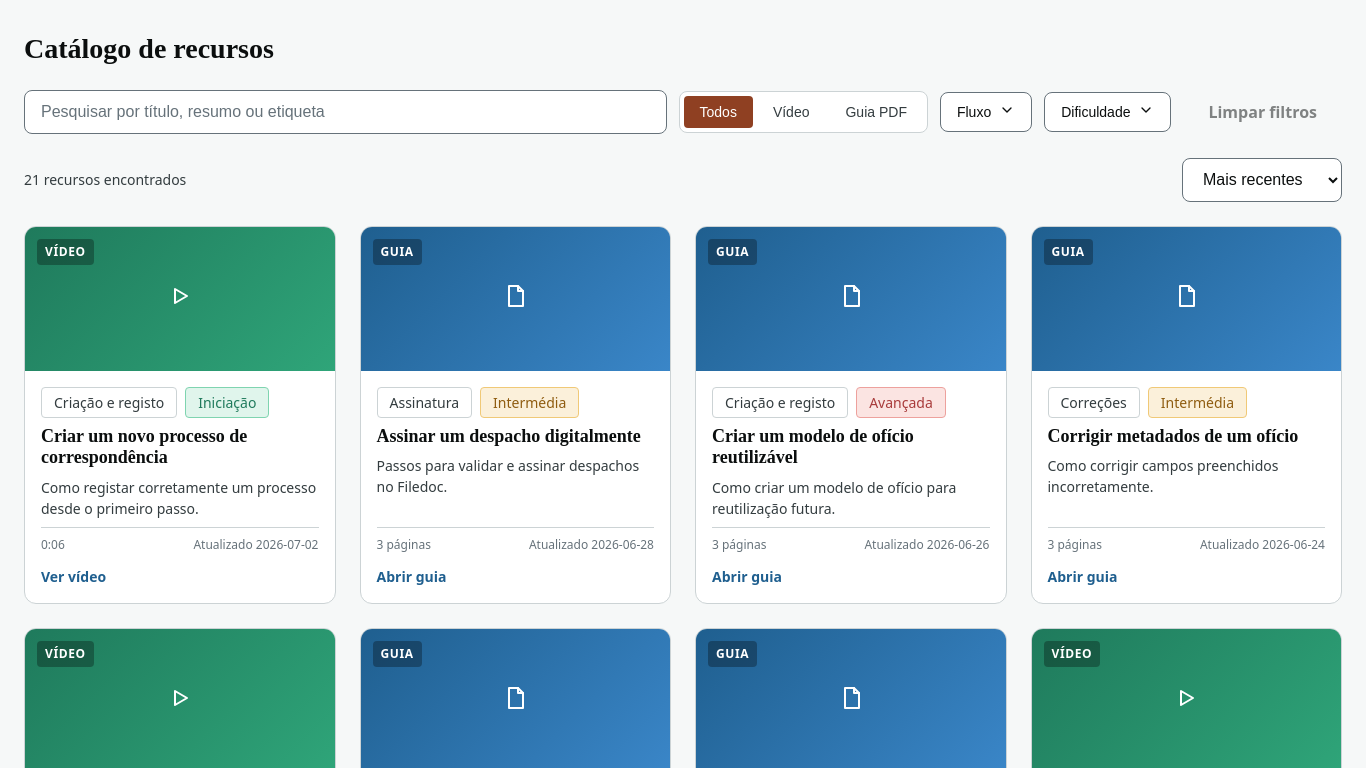
Test: ResourceCatalogPageComponent › filters results as the search text changes, after the debounce delay
In the search field with id "catalog-search": (345, 112) [24, 90, 666, 134], type "arquivo histórico"
Wait 550 ms
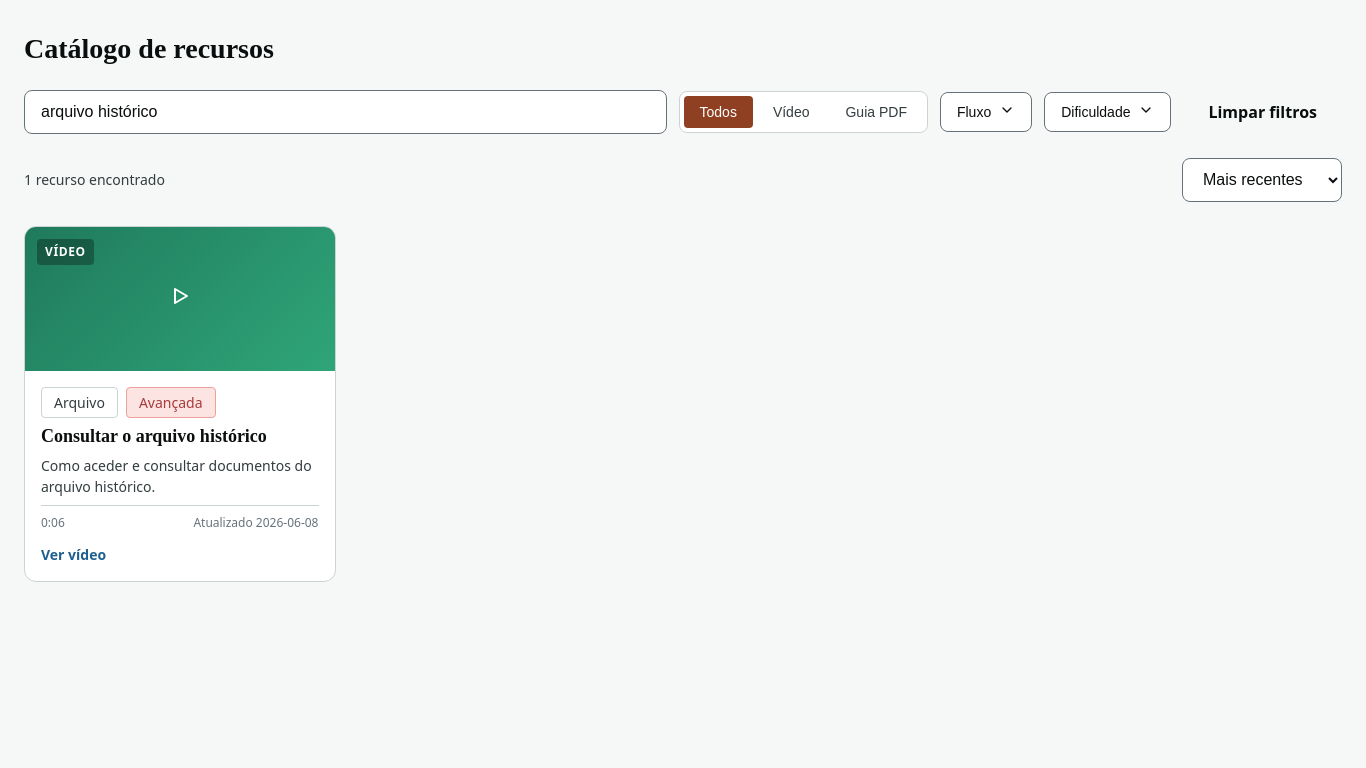
Expected: the text "Consultar o arquivo histórico" is shown, [41, 426, 267, 446]
Expected: the text "1 recurso encontrado" is shown, [24, 169, 165, 190]
